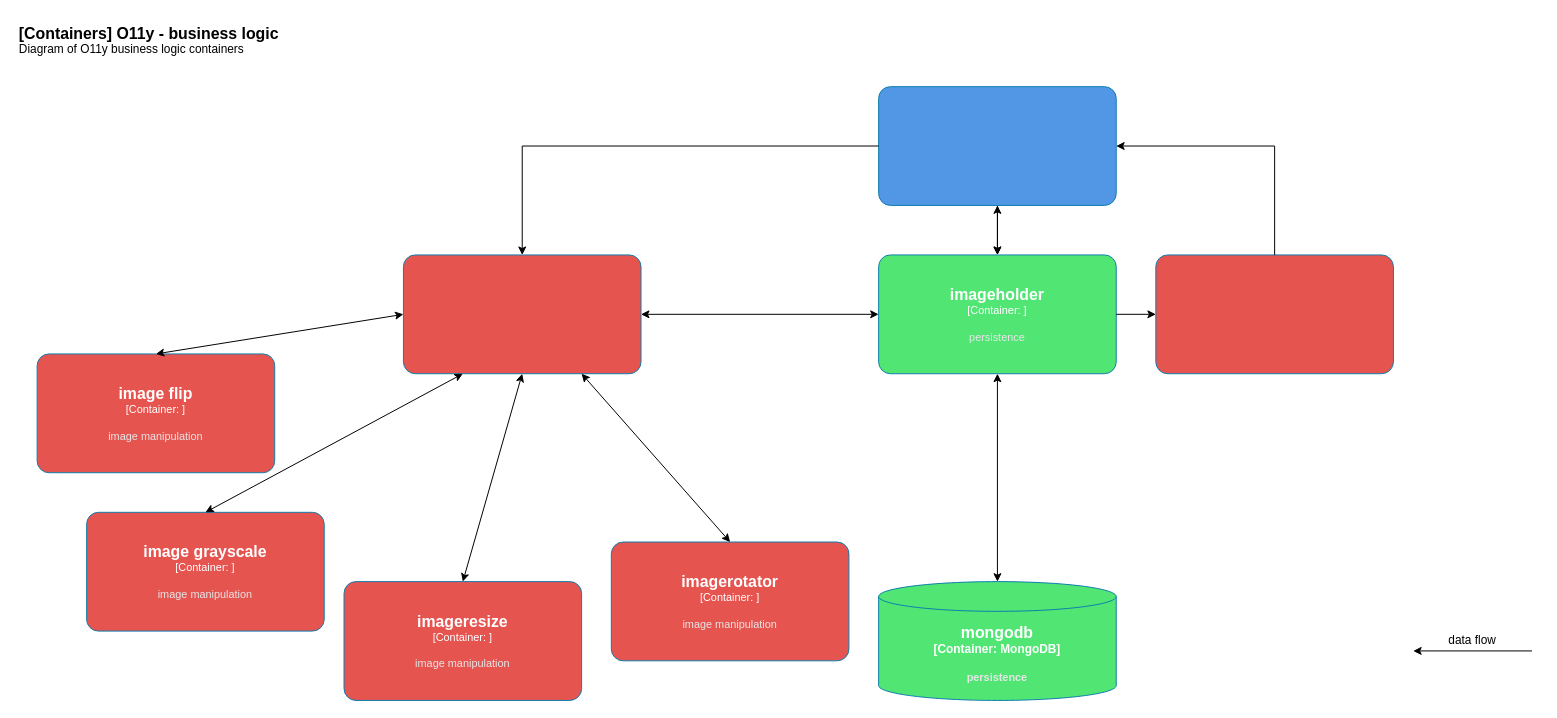
Some shapes in this 1557 by 718 pixel diagram are drawn without their labels. The box of each missing label's shape, as (x1, y1, x2, y2) in pixels:
frontend [Container: ] UI for O11y Services: (878, 86, 1116, 205)
image orchestrator [Container: ] image manipulation: (402, 254, 641, 374)
image thumbnail [Container: ] image manipulation: (1155, 254, 1393, 374)
